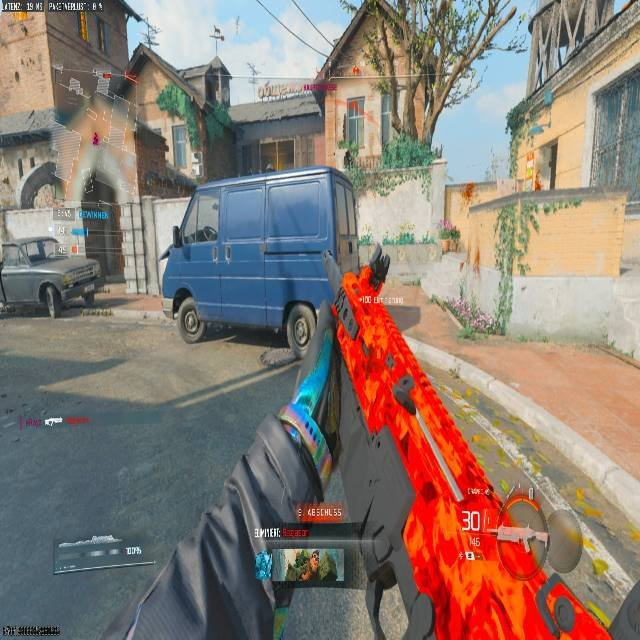player: (165, 286, 208, 342), (367, 250, 389, 299)
